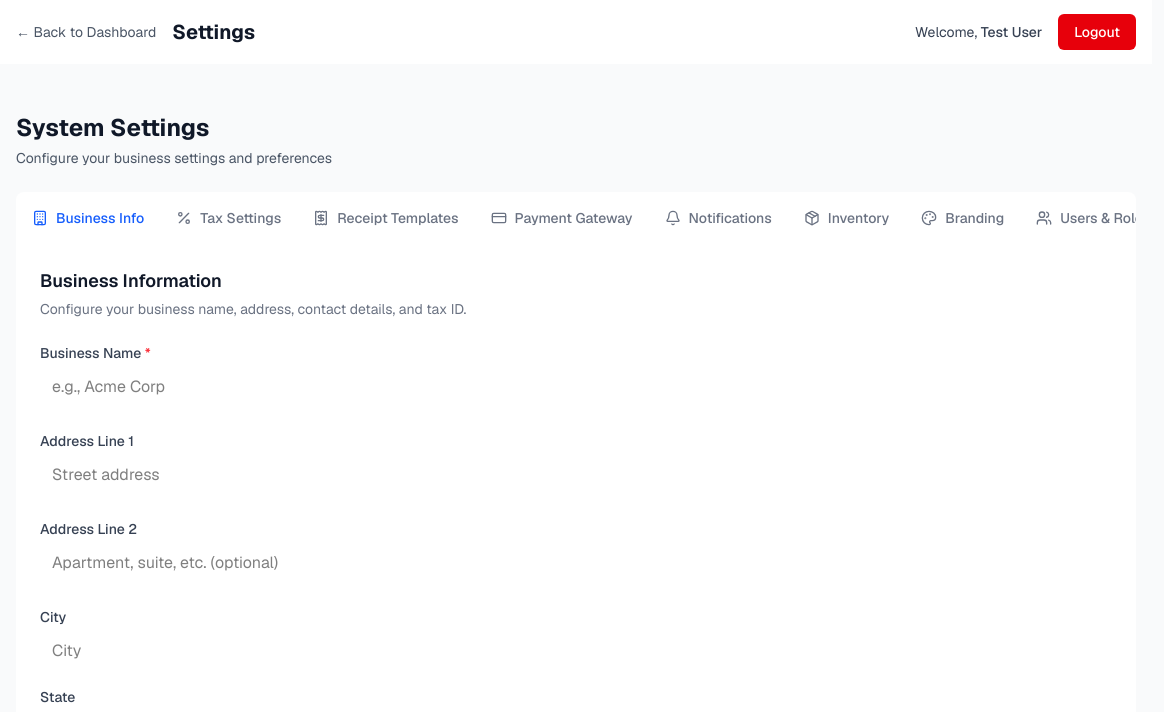
Scenario: SettingsPage › Tabbed Navigation › updates the tab panel heading when switching tabs
This screenshot has width=1164, height=712.
Click the tab "Payment Gateway" at (562, 218), box [475, 192, 649, 244]
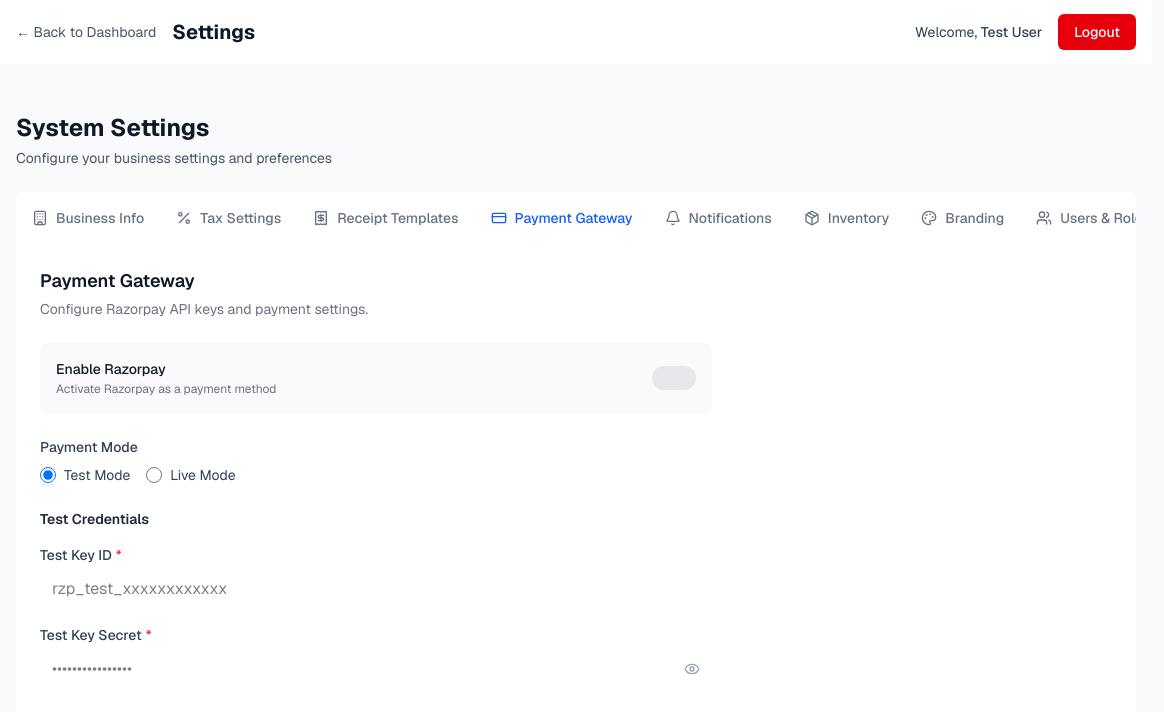
Expected: the heading "Payment Gateway" is shown, [40, 269, 195, 292]
